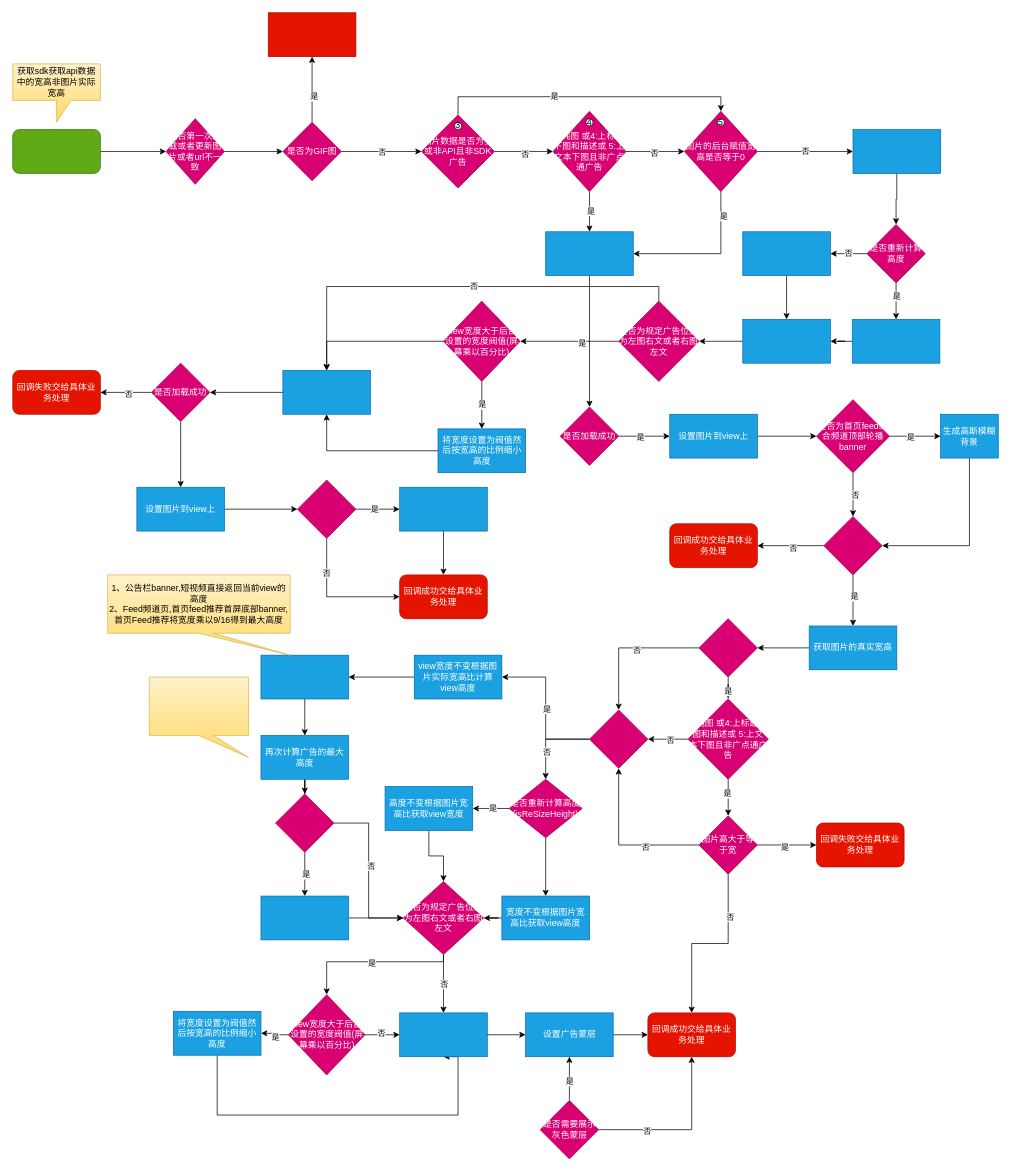
Image size: 1011x1172. Some labels were removed from this diagram. Here are the shapes that lost their labels. From the top down, the centre of each, then its label:
point 312,34: 目前业务方不支持投放GIF
point 56,151: loadImage
point 896,151: 获取到view的宽高
point 589,253: Glide加载图片
point 786,253: 宽度不变根据图片比例缩放view高度
point 786,341: 如果是首屏广告牌广告则高度固定为119xdp,否则不变
point 896,341: 高度不变根据图片比例缩放view宽度
point 326,392: 使用Glide加载图片
point 326,508: 是否为双icon样式
point 443,509: 将view高度增加30dp赋值给全局变量
point 852,545: 是否需要重新计算尺寸(needResize)
point 727,647: 是否为sdk或api广告
point 304,676: 根据广告位获取最大高度
point 199,716: 如果是Feed频道页,首页Feed推荐则最大高度不变否则将最大高度除以2
point 618,738: 是否重新计算(isResize)
point 304,822: view高度是否大于最大高度
point 304,917: 将view高度赋值为最大高度
point 443,1034: 设置广告位view的宽高
